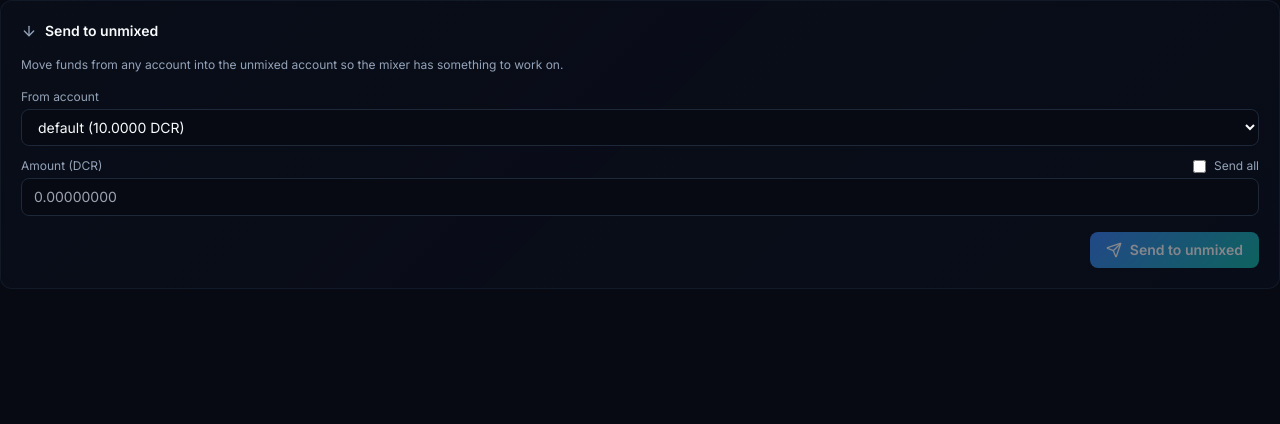
does not offer a build for an amount other than the one typed
In the field with placeholder "0.00000000": (640, 197) [21,178,1259,216], type "1"
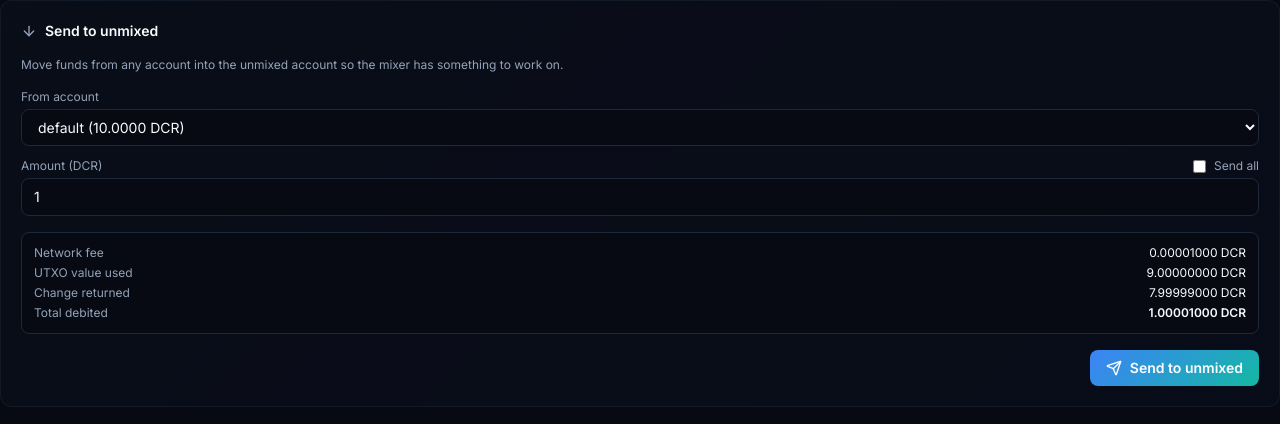
Check: the button "Send to unmixed" is enabled, box [1090,350,1259,386]
Replace the text in the field with placeholder "0.00000000" with "5": (640, 197) [21,178,1259,216]
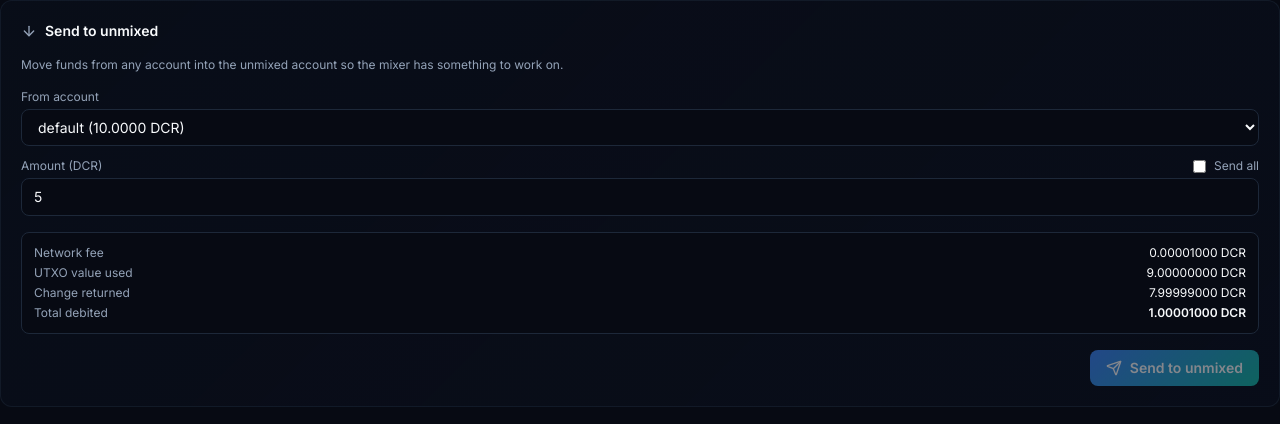
Check: the button "Send to unmixed" is disabled, box [1090,350,1259,386]
